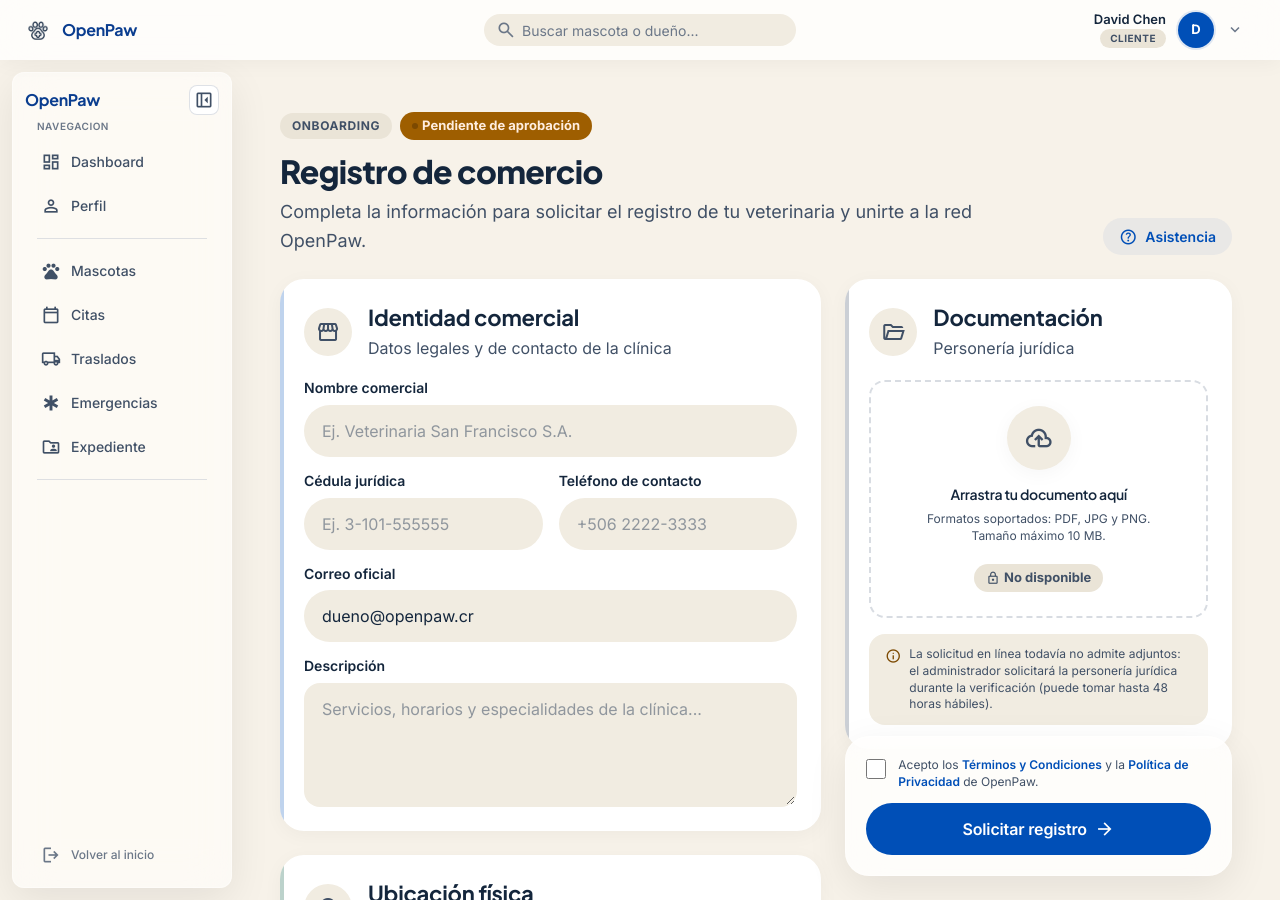
Scenario: VeterinaryRegistrationPage (T37 — página única) › bloquea el envío sin datos ni términos: errores visibles, foco al primer campo inválido y sin POST
Click the button "Solicitar registro" at (1039, 829), box left=866, top=803, right=1211, bottom=855
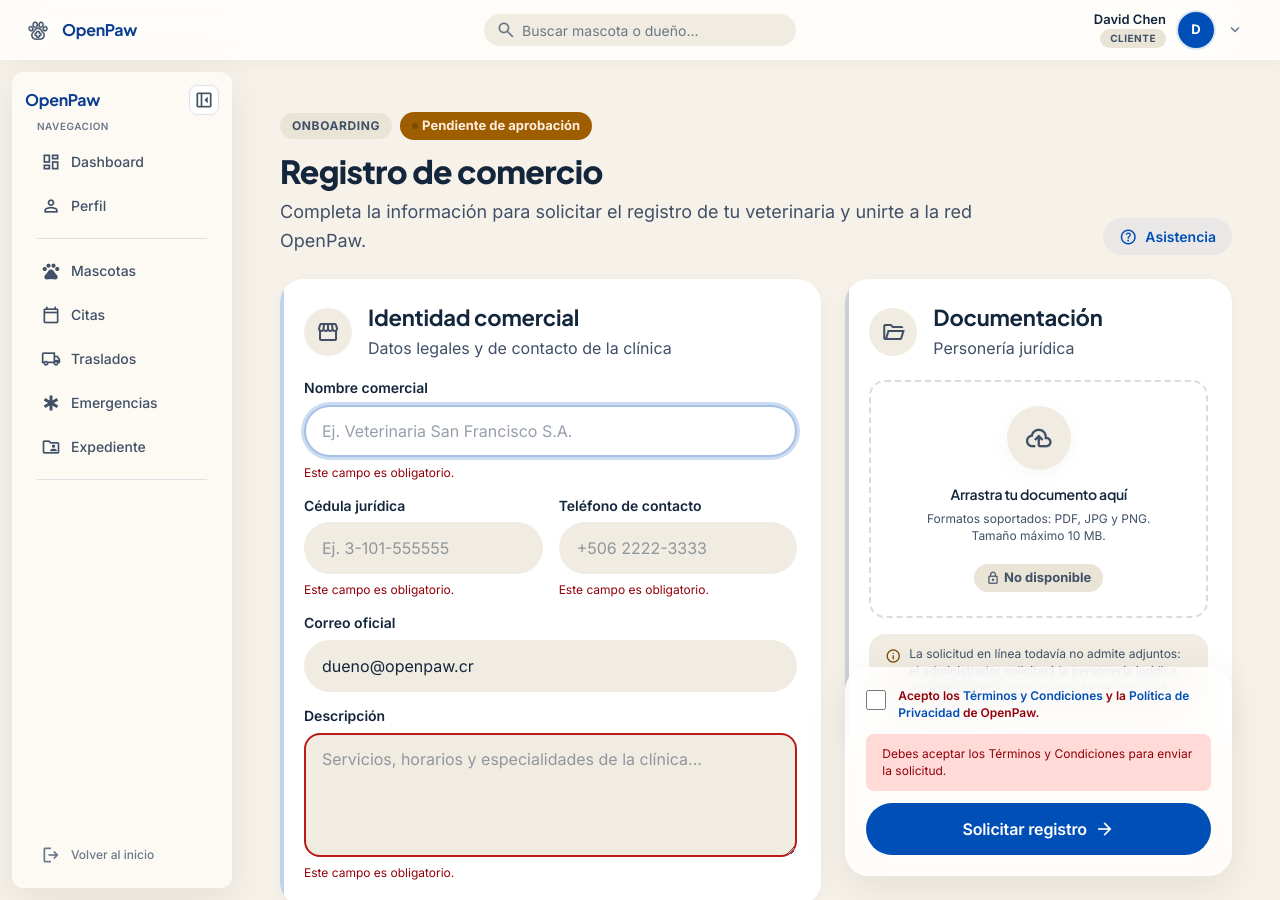
Expected: the text "Este campo es obligatorio." below "Nombre comercial" is shown, left=304, top=465, right=454, bottom=480
Expected: the text "Debes aceptar los Términos y Condiciones para enviar la solicitud." is shown, left=866, top=733, right=1211, bottom=791
